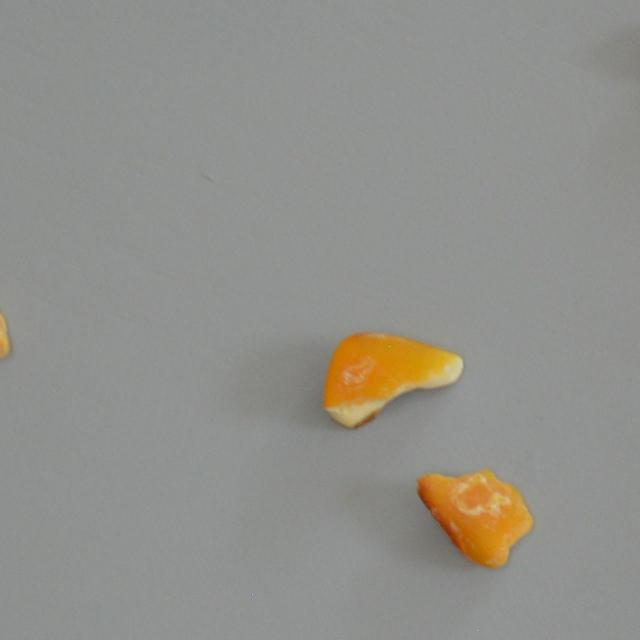dañado: (320, 326, 467, 433), (410, 462, 536, 572), (0, 268, 16, 382)
